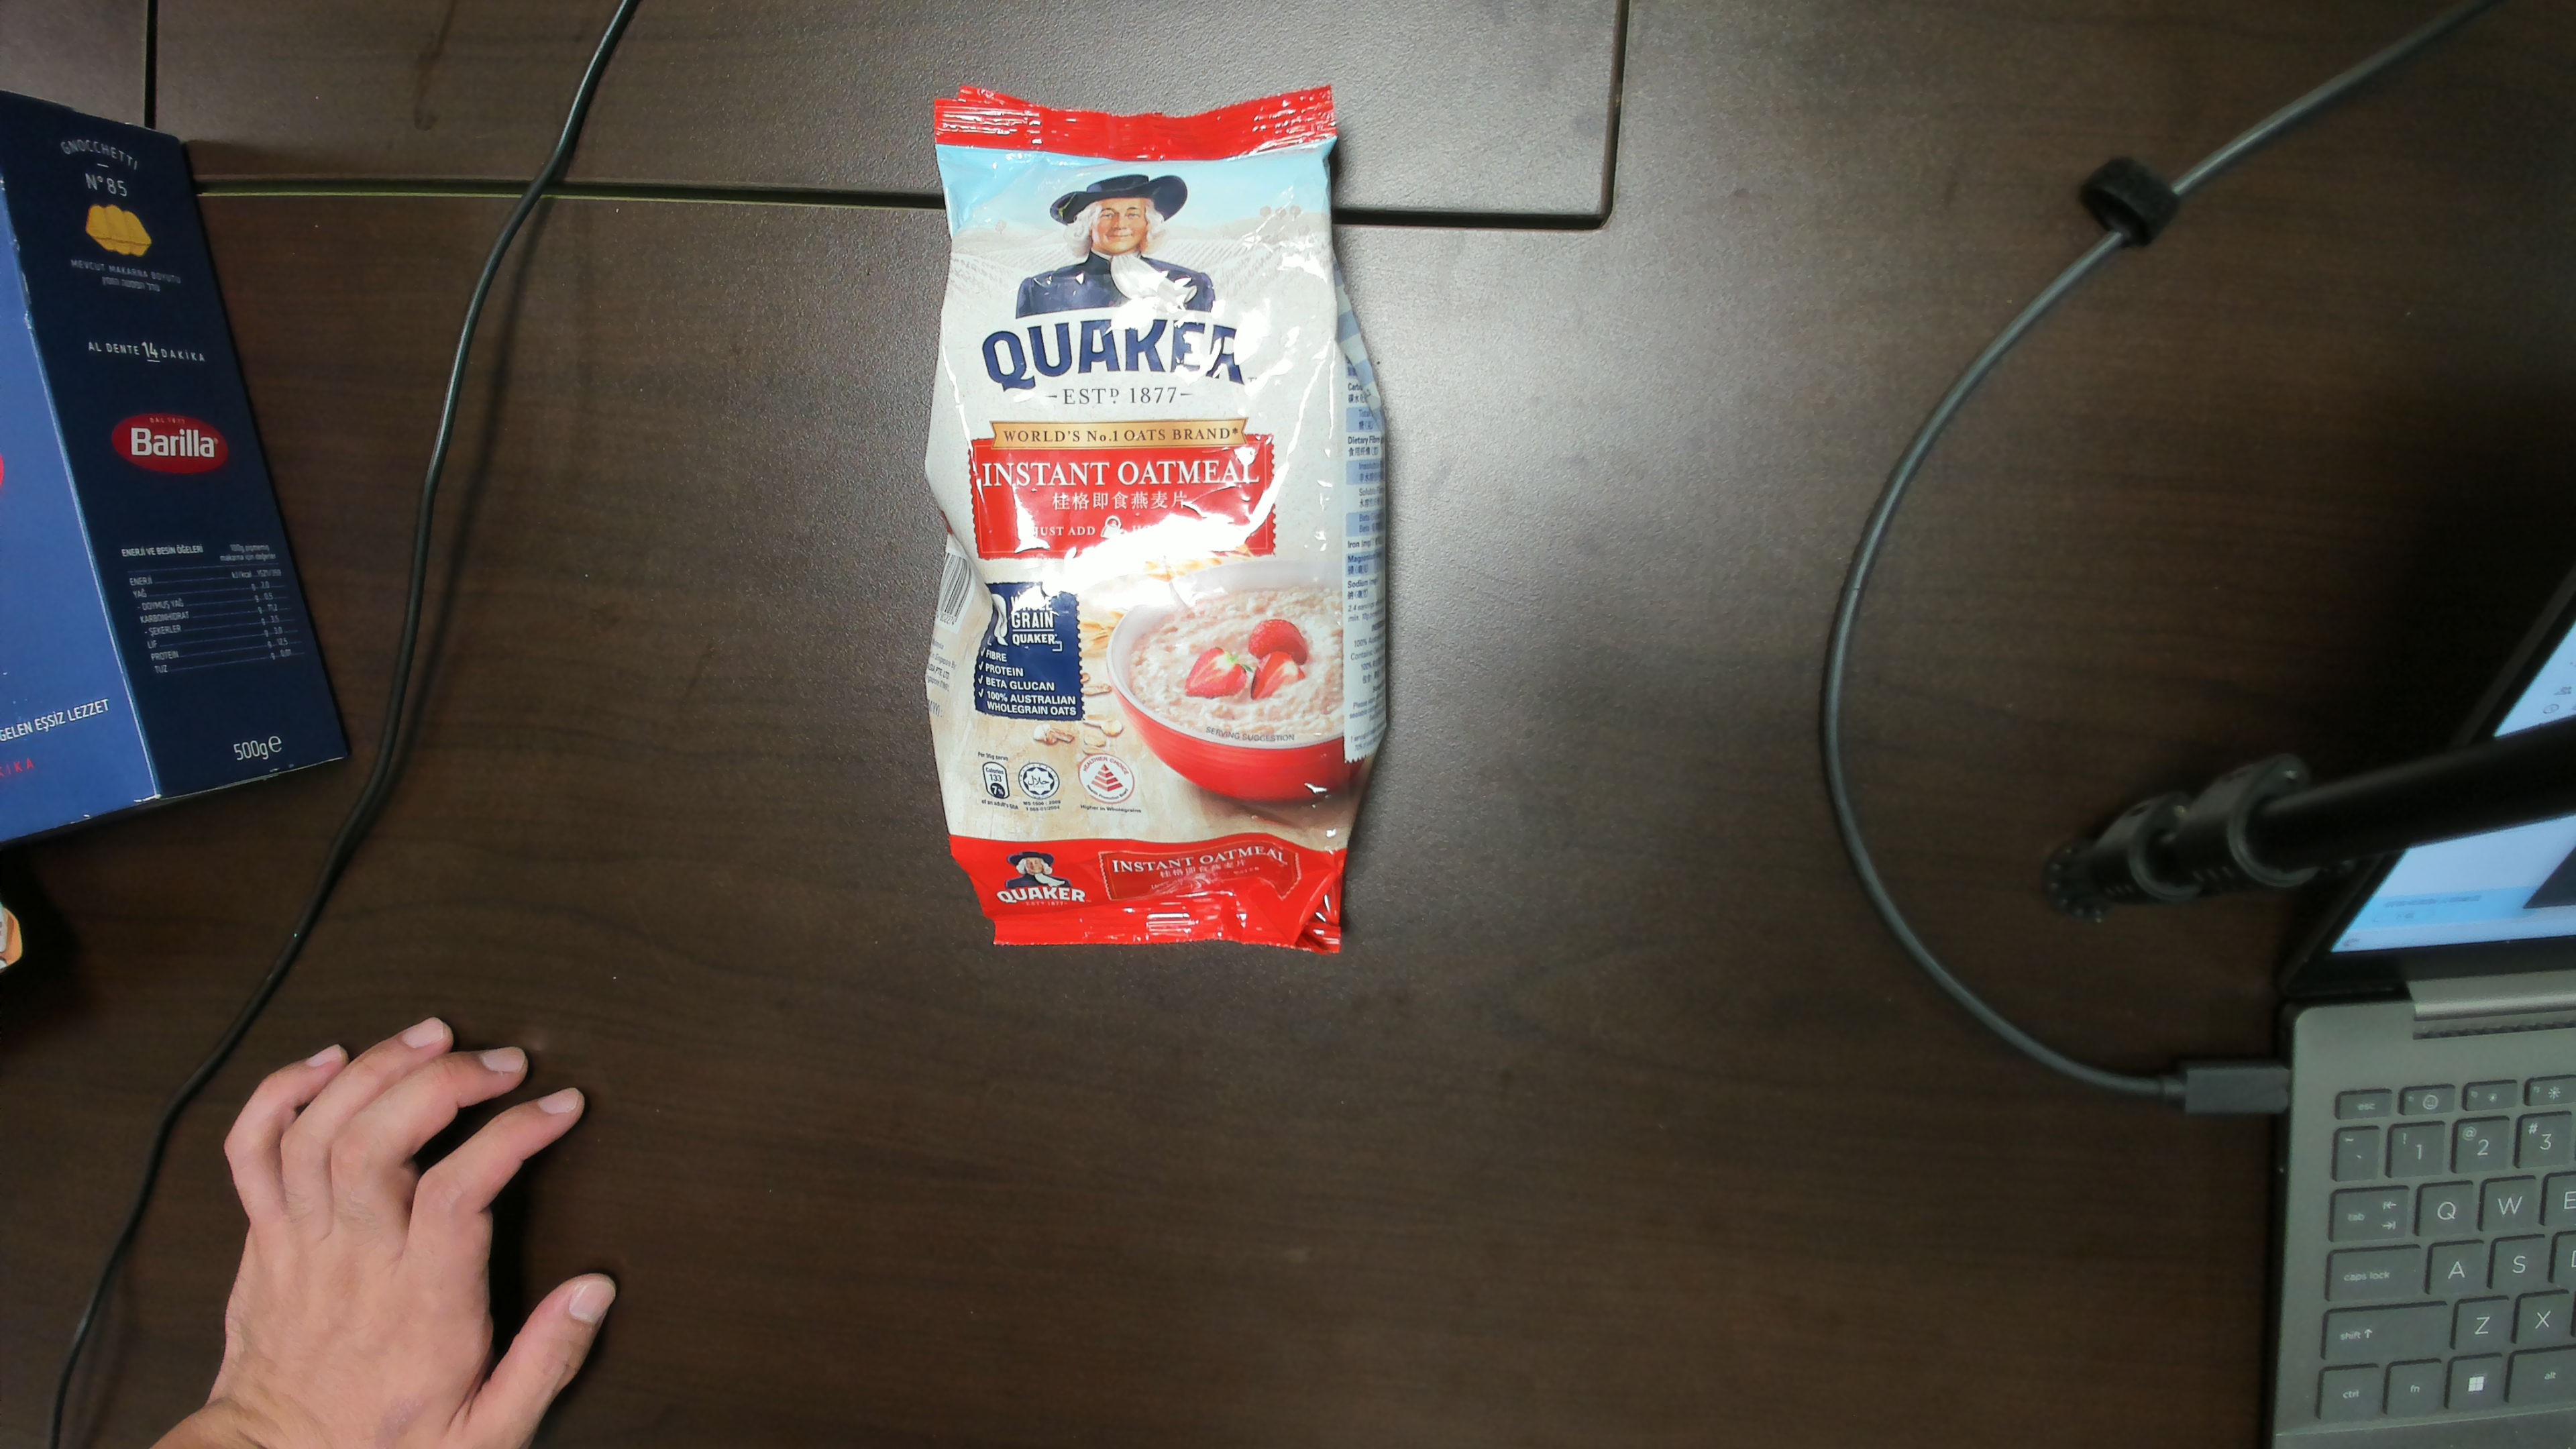RolledOatsInstantOatmeal_400-499g_Halal_Healthy: (950, 156, 1353, 918)
